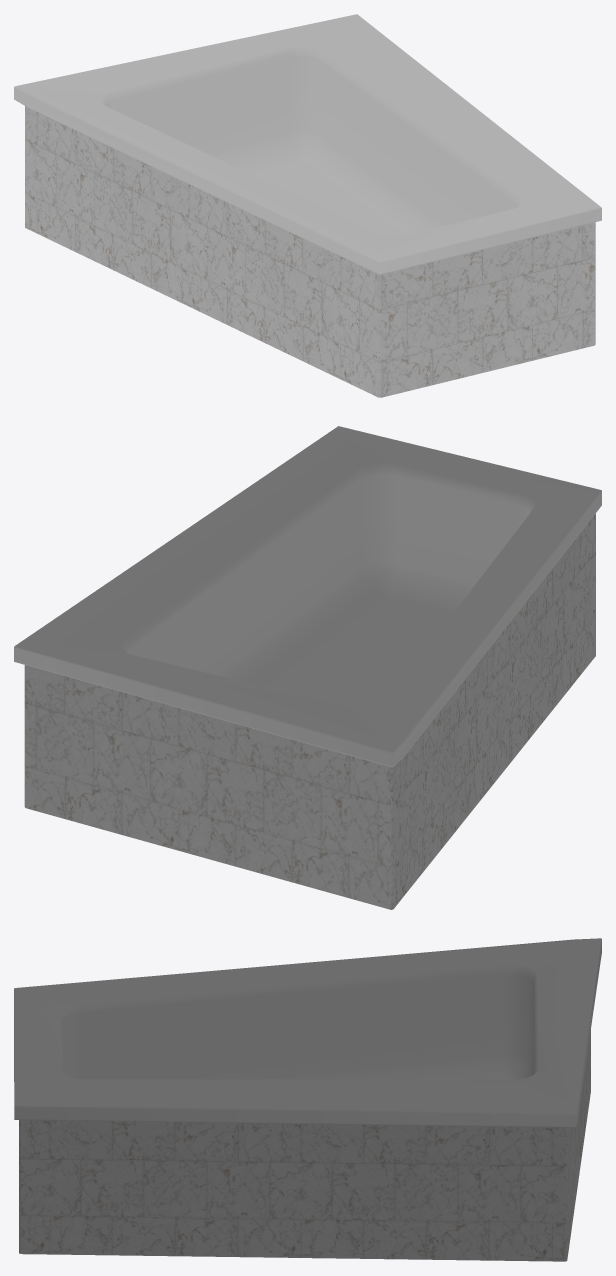
Rendered from Bathtub_b837a28d.obj.
3 renders of one model, top to bottom at view 1: azimuth 30°, elevation 25°; view 2: azimuth 150°, elevation 25°; view 3: azimuth 270°, elevation 25°, orthographic. The views are drawn at different scales.
Parts seen in each view (by area): view 1: BathtubMesh_a6dd8040; view 2: BathtubMesh_a6dd8040; view 3: BathtubMesh_a6dd8040.
Boxes of the visible parts, <box> form: BathtubMesh_a6dd8040: <box>14,14,601,397</box>; BathtubMesh_a6dd8040: <box>14,426,601,909</box>; BathtubMesh_a6dd8040: <box>14,938,601,1261</box>.
Size of the model in its own units: 1.65 by 0.6593 by 2.34.
